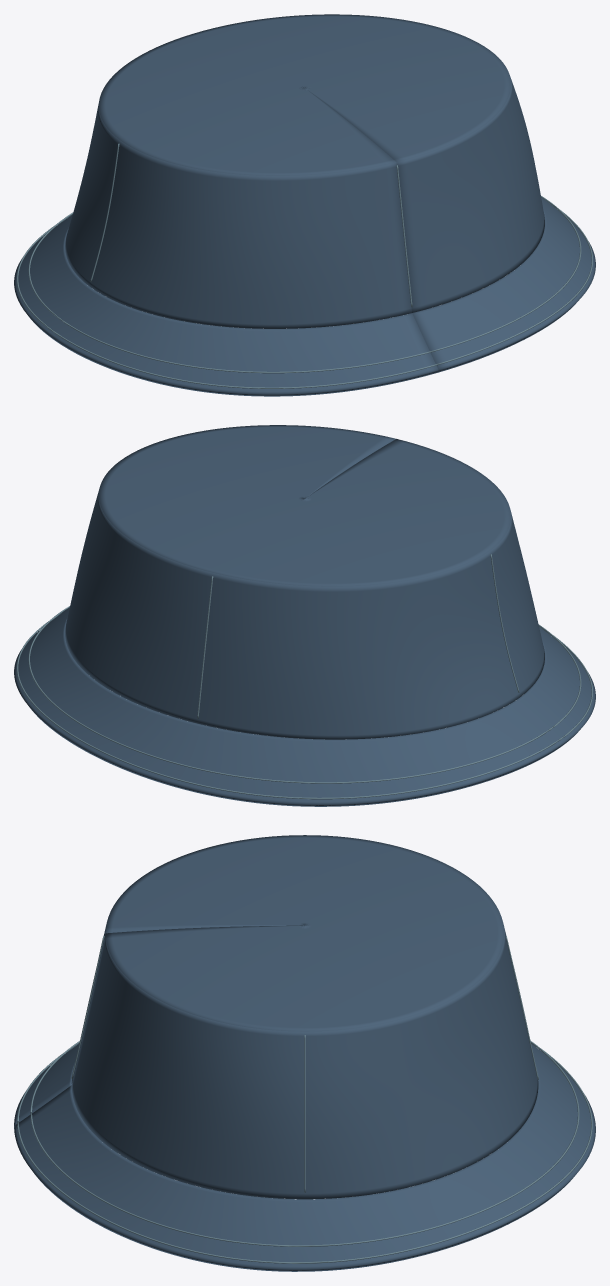
The model's file is Feminine-bucket-headgear.glb.
3 renders of one model, top to bottom at view 1: azimuth 30°, elevation 25°; view 2: azimuth 150°, elevation 25°; view 3: azimuth 270°, elevation 25°, orthographic. The views are drawn at different scales.
Parts seen in each view (by area): view 1: 226 headgear / Headwear / fabric226, 226 headgear / Headwear / seam226; view 2: 226 headgear / Headwear / fabric226, 226 headgear / Headwear / seam226; view 3: 226 headgear / Headwear / fabric226, 226 headgear / Headwear / seam226.
Boxes of the visible parts, x1,y1,x2,y2 form: 226 headgear / Headwear / fabric226: [14, 14, 595, 396]; 226 headgear / Headwear / seam226: [17, 143, 592, 388]; 226 headgear / Headwear / fabric226: [14, 425, 595, 806]; 226 headgear / Headwear / seam226: [17, 554, 592, 799]; 226 headgear / Headwear / fabric226: [14, 835, 595, 1271]; 226 headgear / Headwear / seam226: [17, 936, 592, 1263].
Bounding box in the file's own units: 1.24 × 0.4452 × 1.11.
